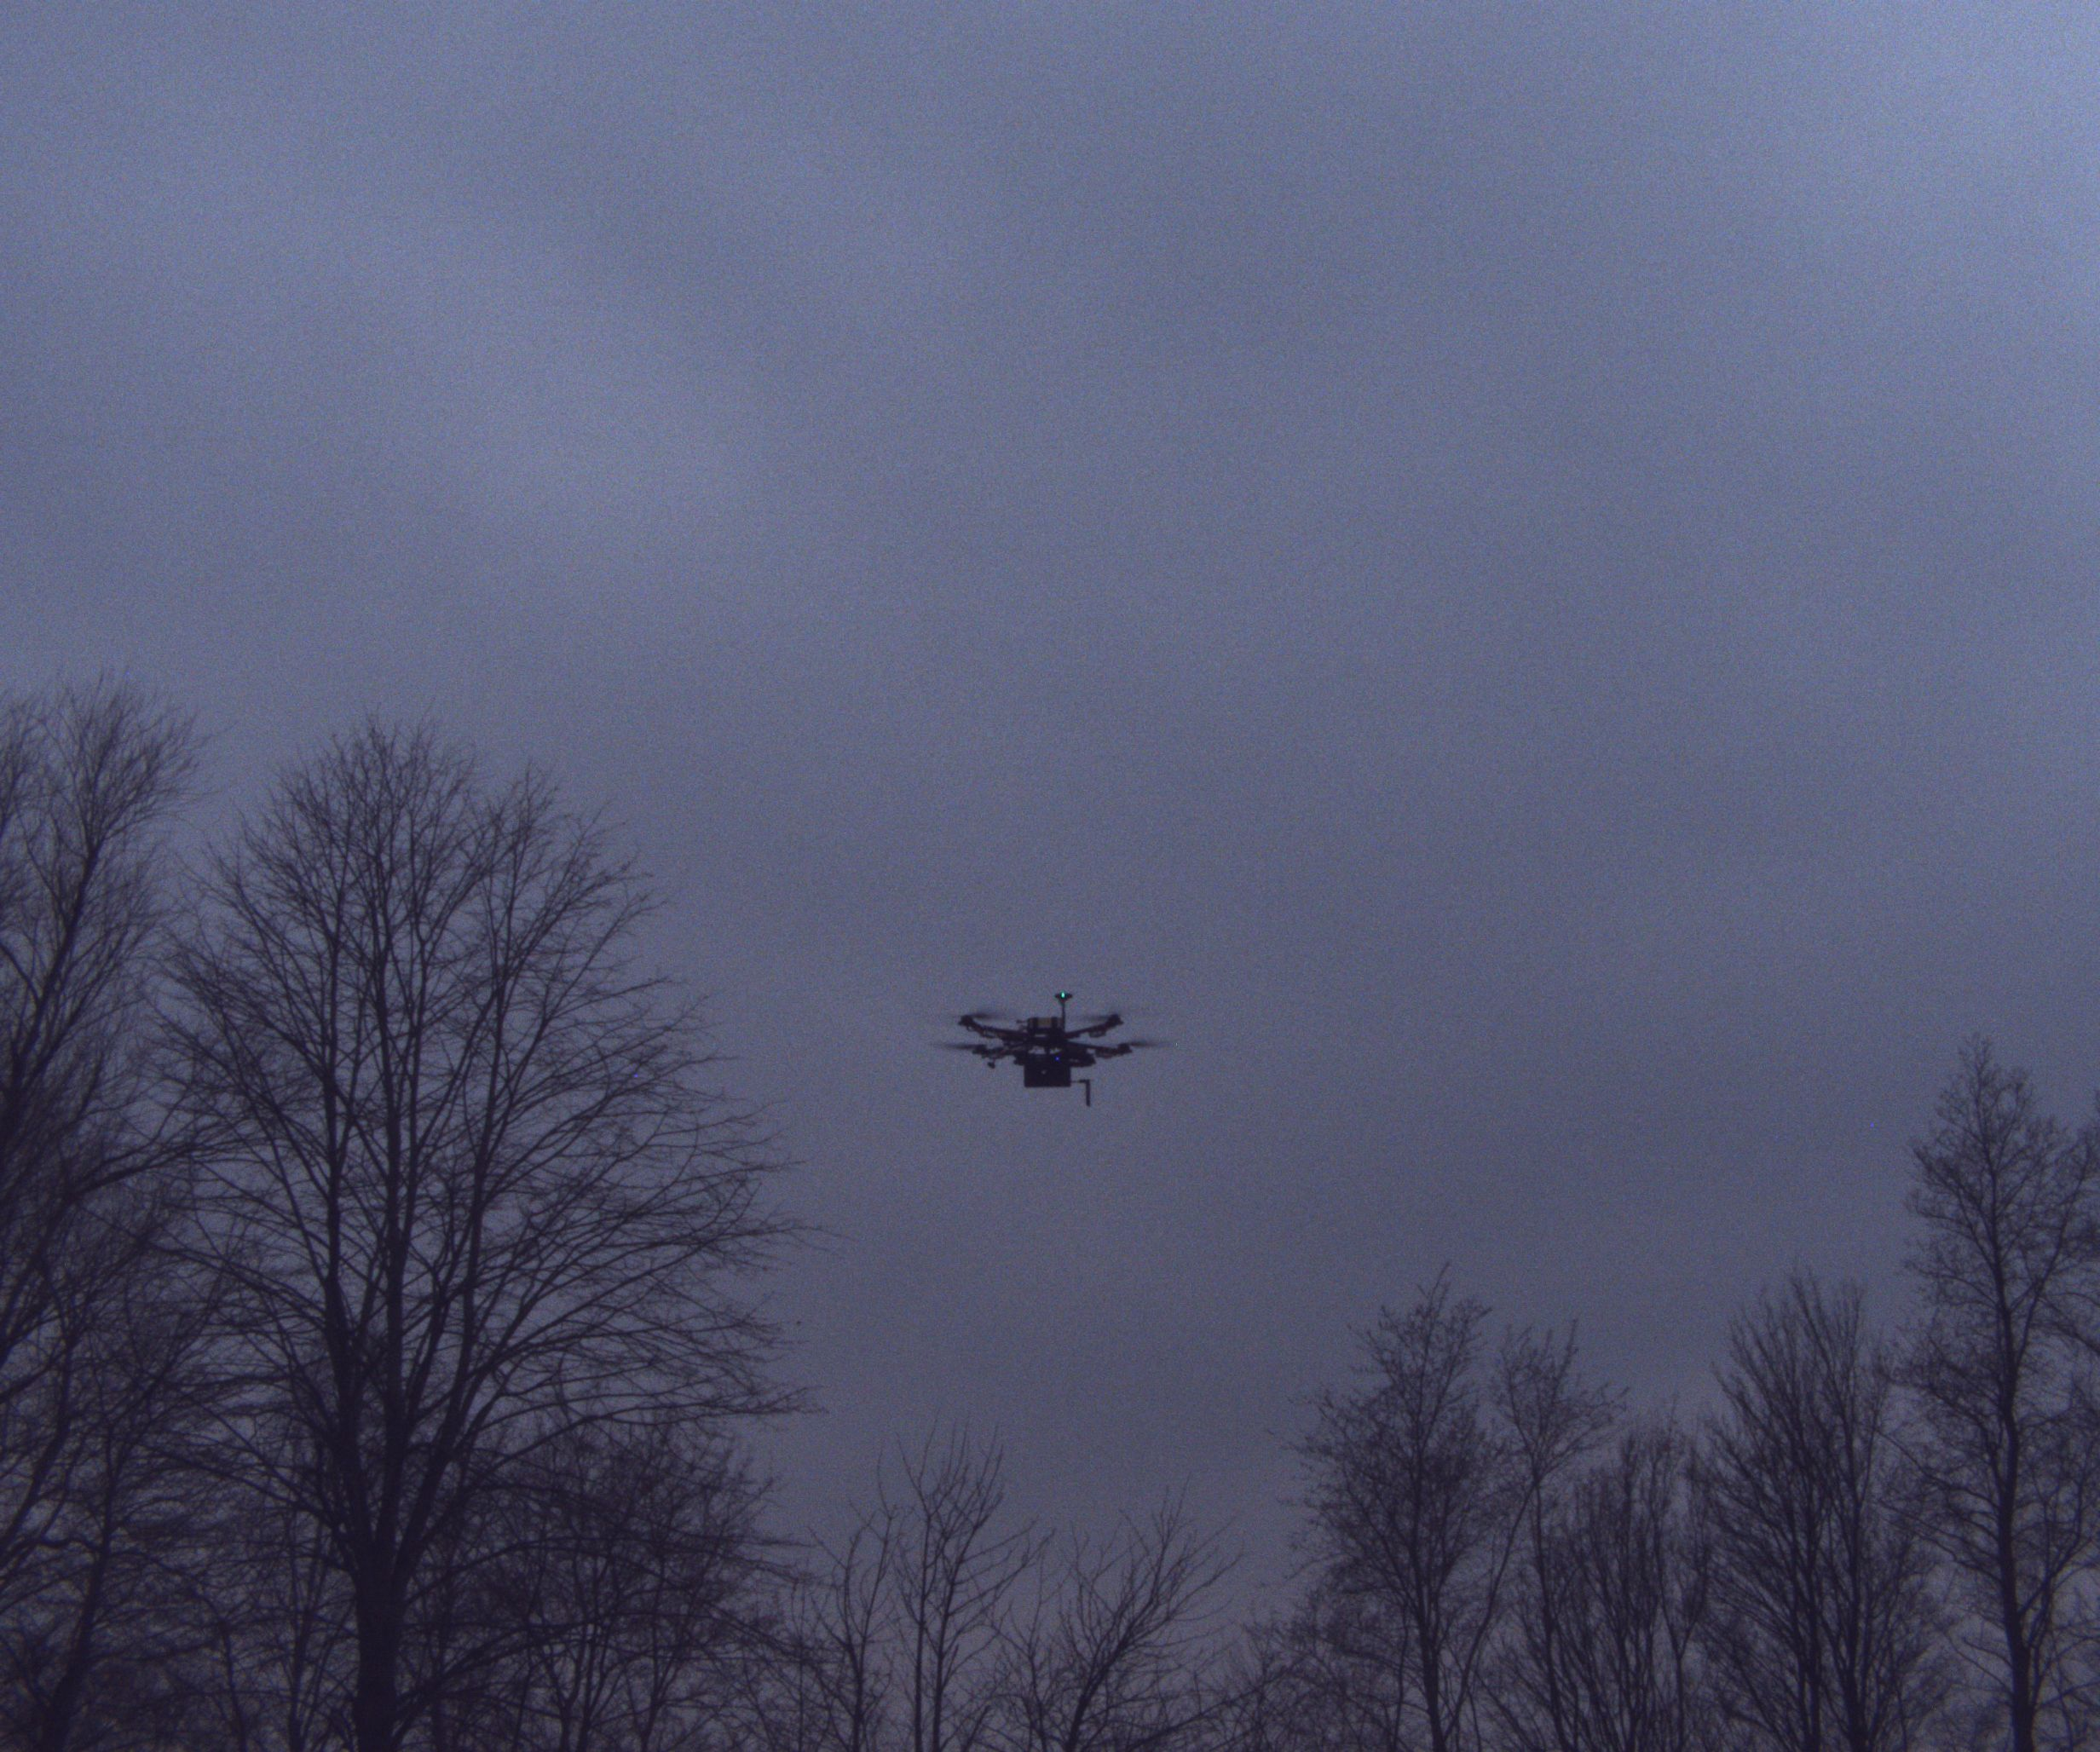Drohne: (928, 966, 1235, 1119)
